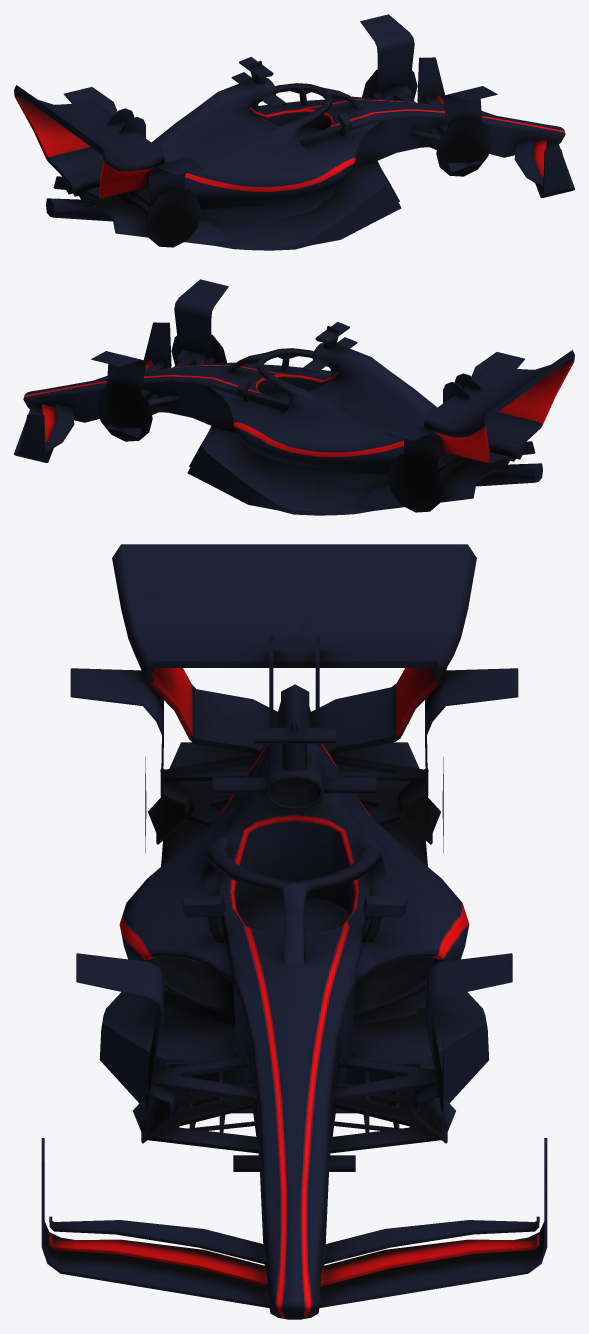
The model's file is f1_car_15.dae.
3 renders of one model, top to bottom at view 1: azimuth 30°, elevation 25°; view 2: azimuth 150°, elevation 25°; view 3: azimuth 270°, elevation 25°, orthographic. The views are drawn at different scales.
Visible parts, largest first — view 1: F1_Car; view 2: F1_Car; view 3: F1_Car.
Boxes of the visible parts, x1=… form: F1_Car: x1=14, y1=14, x2=574, y2=250; F1_Car: x1=14, y1=279, x2=574, y2=515; F1_Car: x1=41, y1=544, x2=547, y2=1319.
Bounding box in the file's own units: 34.44 × 14.7 × 9.69.
1 material, 1 textured.
